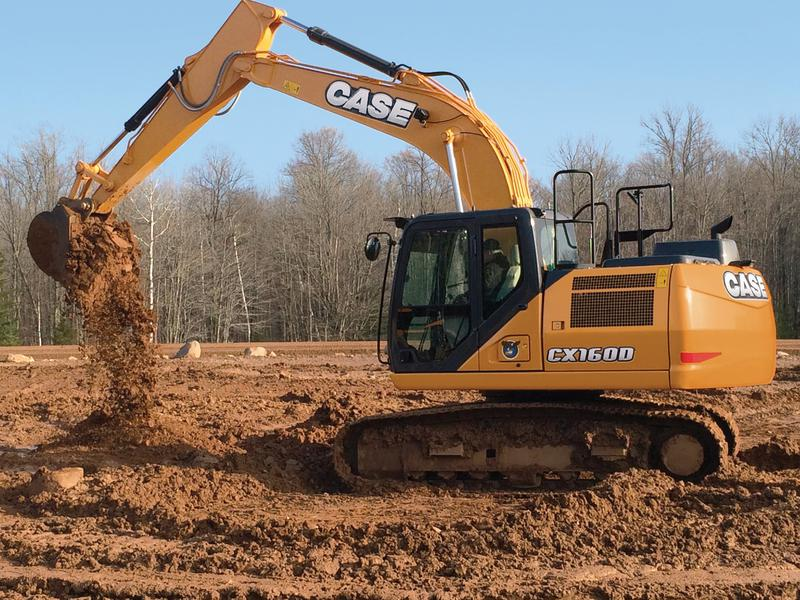shovel: (20, 1, 781, 493)
